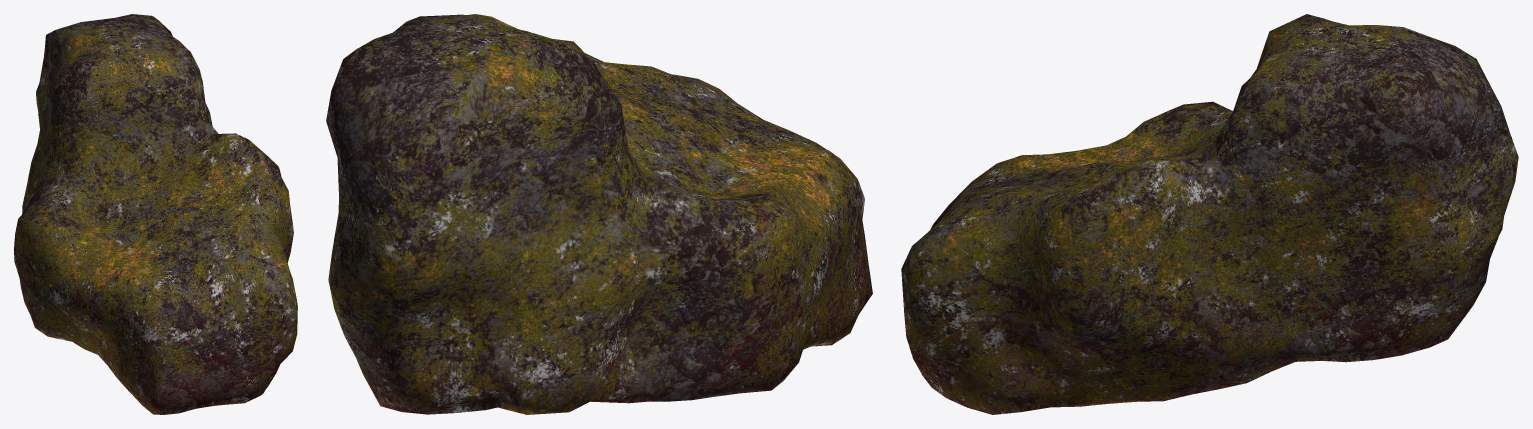
File: Pond_Rock.glb
The picture shows the model from 3 angles, left to right: view 1: azimuth 30°, elevation 25°; view 2: azimuth 150°, elevation 25°; view 3: azimuth 270°, elevation 25°; orthographic projection. The views are drawn at different scales.
Visible parts, largest first — view 1: Mossy_Rock; view 2: Mossy_Rock; view 3: Mossy_Rock.
Part boxes in pixels (left/top/right/bottom): Mossy_Rock: left=14, top=14, right=297, bottom=414; Mossy_Rock: left=326, top=14, right=872, bottom=414; Mossy_Rock: left=901, top=14, right=1518, bottom=414.
Size of the model in its own units: 2.07 by 2.33 by 3.5.
Materials: 1 (1 with a texture image).
